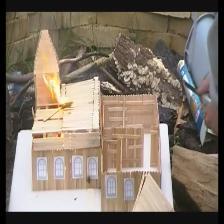fire: (41, 68, 71, 106)
